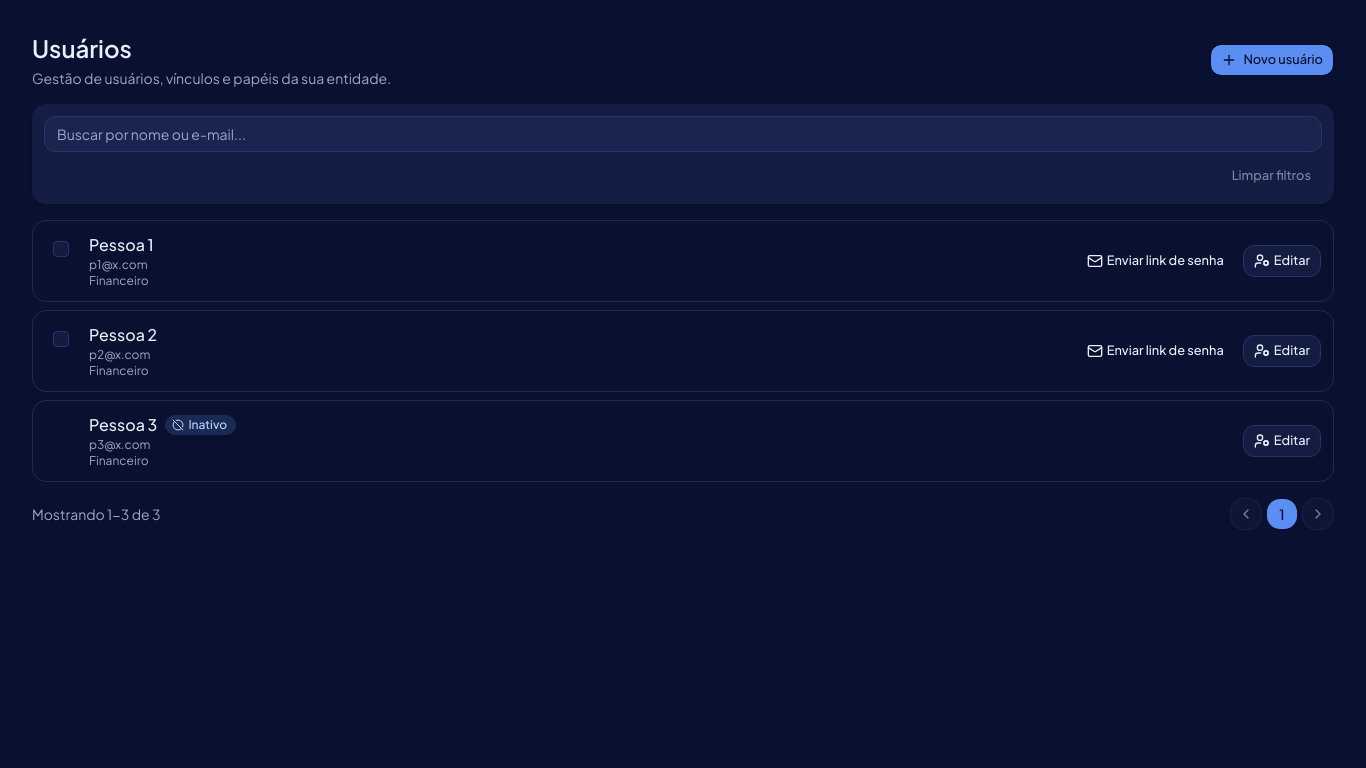
it: UsuariosPage — reenvio em lote › seleção manual: só ativo tem caixa, barra mostra a contagem e envia os ids marcados
Expected: the text "Pessoa 1" is shown, [89,233,154,257]
Step 1. Click the checkbox named "Selecionar Pessoa 1" → click(61, 249), box [53,241,69,257]
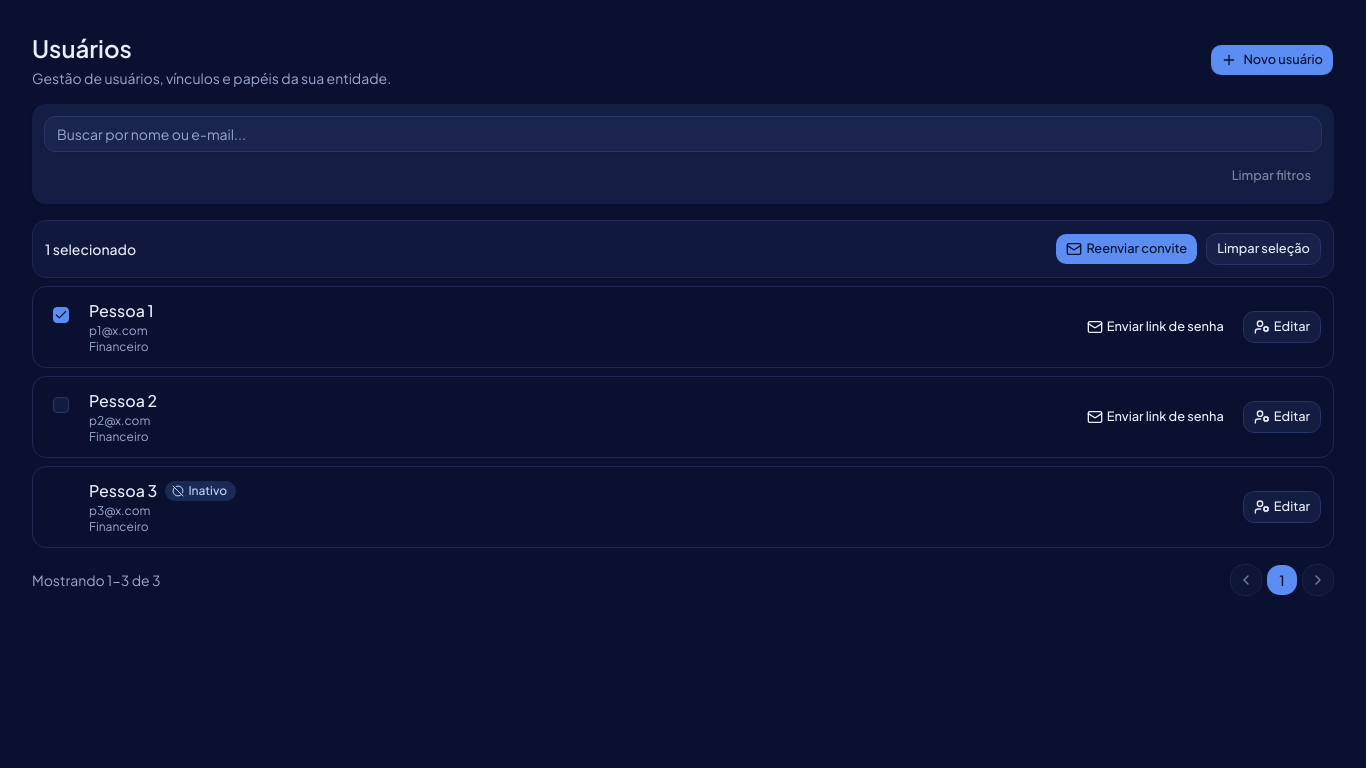
Step 2. Click the checkbox named "Selecionar Pessoa 2" → click(61, 405), box [53,397,69,413]
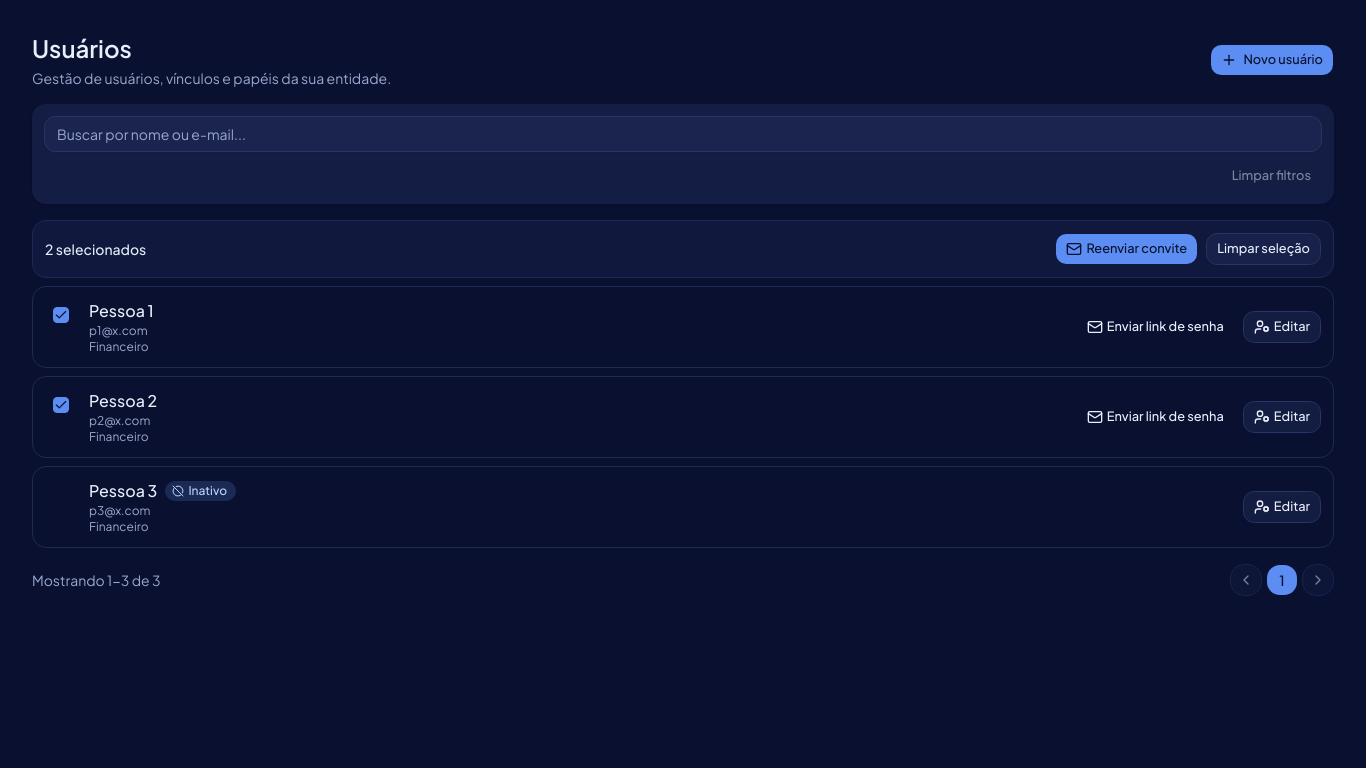
Result: the message reads "2 selecionados" at [45,239,146,259]
Step 3. Click the button "Reenviar convite" → click(1127, 249), box [1055,233,1198,265]
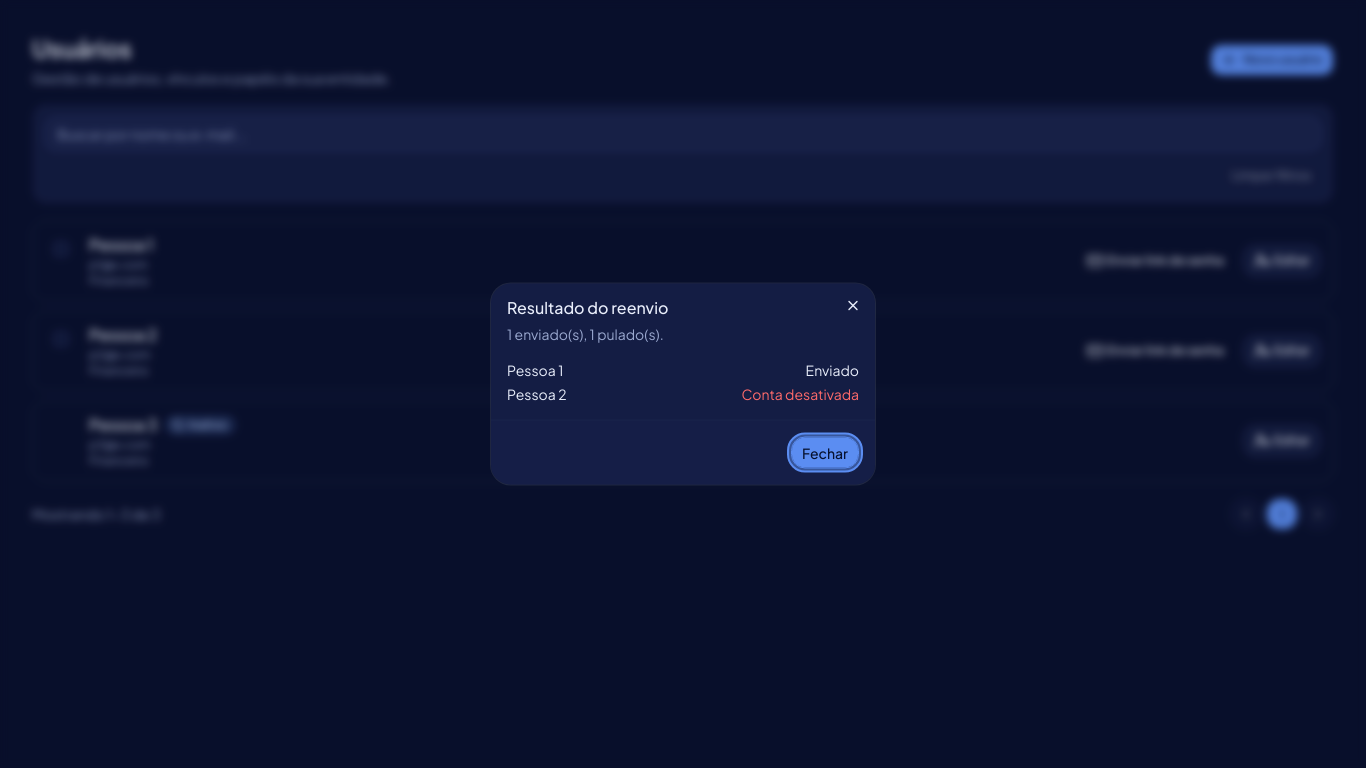
Result: the text "Conta desativada" is shown at [741,384,859,404]
Result: the text "Enviado" is shown at [806,360,859,380]
Result: the text "selecionados?" is gone
